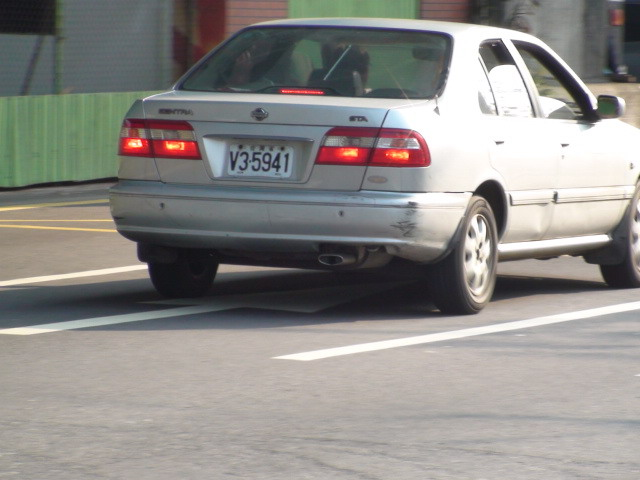plate: (223, 142, 297, 180)
